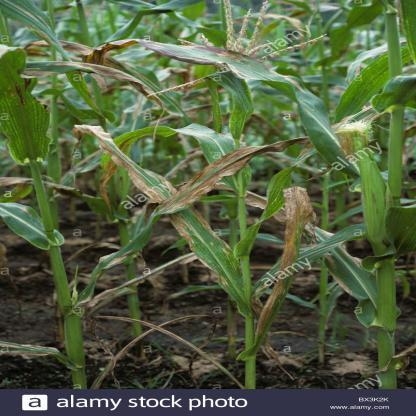Corn leaf blight: (74, 136, 318, 302), (82, 39, 356, 174), (72, 122, 241, 310), (250, 184, 314, 352), (26, 61, 176, 117), (1, 40, 56, 176)
